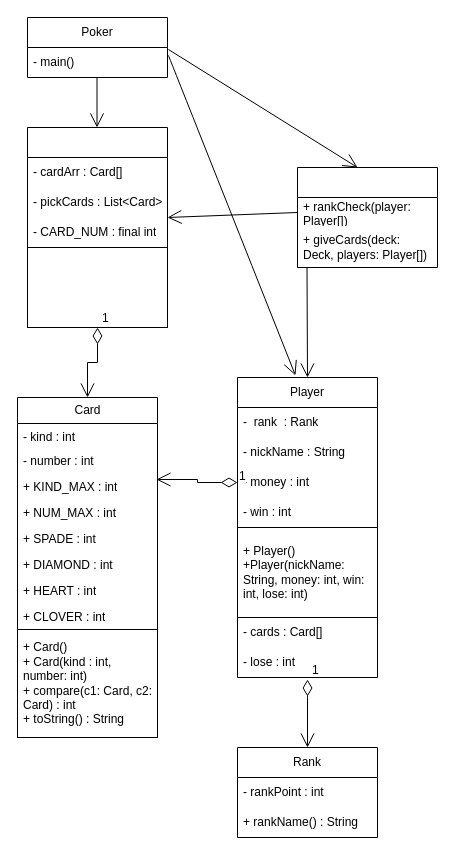
Image size: 455x855. Some labels were removed from this diagram. Each missing label, with the box of its shape:
+ Deck() + pick(index: int) : Card + pick() : Card + shuffle(): (26, 246, 168, 328)
Dealer: (296, 166, 438, 268)
Deck: (26, 126, 168, 248)
